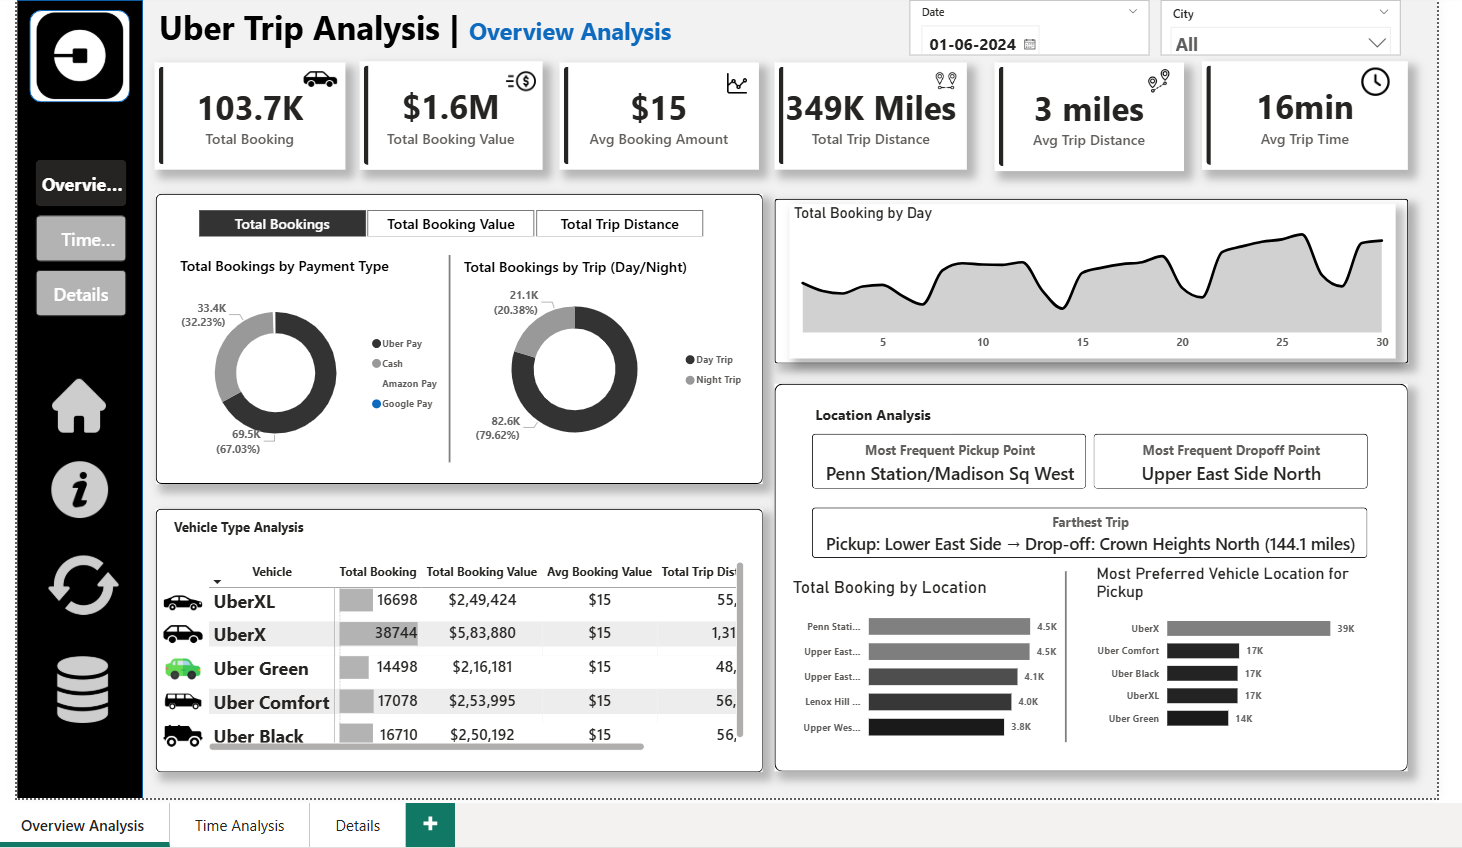

What the dashboard file says about the page in this screenshot:
{"tool":"powerbi","page":{"name":"Overview Analysis","canvas":[1600,900],"ordinal":0},"visuals":[{"type":"shape","box":[0,0,142,900.5],"z":0},{"type":"textbox","box":[154.3,0,868.6,68.6],"z":1000},{"type":"cardVisual","fields":{"Data":["Trip Details.Total Booking Value"]},"box":[385.8,69.7,206.4,122.3],"z":2000},{"type":"cardVisual","fields":{"Data":["Trip Details.Avg Booking Amount"]},"box":[611.4,70.3,224.7,120.8],"z":3000},{"type":"cardVisual","fields":{"Data":["Trip Details.Total Trip Distance"]},"box":[854.5,70.3,217.1,120.8],"z":4000},{"type":"cardVisual","fields":{"Data":["Trip Details.Avg Trip Distance"]},"box":[1102.1,70.3,214,122.3],"z":5000},{"type":"cardVisual","fields":{"Data":["Trip Details.Avg Trip Time"]},"box":[1335.9,68.8,232.3,122.3],"z":6000},{"type":"cardVisual","fields":{"Data":["Trip Details.Total Bookings"]},"box":[154.4,70.3,215.5,120.8],"z":7000},{"type":"image","box":[1510.2,76.4,41.3,32.1],"z":8000},{"type":"image","box":[1275.7,74.3,25.7,32.9],"z":9000},{"type":"image","box":[1035.7,74.3,22.9,32.9],"z":10000},{"type":"image","box":[489.1,74.9,159,33.6],"z":11000},{"type":"image","box":[798.6,77.1,25.7,32.9],"z":12000},{"type":"shape","box":[155.7,218.6,684.3,327.1],"z":13000},{"type":"image","box":[247.6,68.8,188,39.7],"z":14000},{"type":"slicer","fields":{"Values":["Dynamic Measure.Dynamic Measure"]},"box":[178.6,230,618.6,37.1],"z":15000},{"type":"donutChart","fields":{"Y":["Trip Details.Total Booking"],"Category":["Trip Details.Payment_type"]},"box":[178.6,287.1,308.6,244.3],"z":16000},{"type":"shape","box":[155.7,572.9,684.3,297.1],"z":17000},{"type":"donutChart","fields":{"Y":["Trip Details.Total Booking"],"Category":["Trip Details.Trip Type (DAY/NIGHT)"]},"box":[498.3,288.9,331.7,233.9],"z":18000},{"type":"pivotTable","fields":{"Rows":["Trip Details.Vehicle"],"Values":["Trip Details.Total Bookings","Trip Details.Total Booking Value","Trip Details.Avg Booking Amount","Trip Details.Total Trip Distance Measure"]},"box":[211.4,628.6,612.9,222.9],"z":19000},{"type":"image","box":[155.9,655.7,61.1,48.9],"z":20000},{"type":"image","box":[145.2,692.4,84.1,45.9],"z":21000},{"type":"image","box":[145.2,733.7,84.1,39.7],"z":22000},{"type":"image","box":[145.2,767.3,84.1,45.9],"z":23000},{"type":"image","box":[145.2,807.1,84.1,44.3],"z":24000},{"type":"textbox","box":[171.2,573.2,428,47.4],"z":25000},{"type":"shape","box":[854.5,432.6,713.8,437.2],"z":26000},{"type":"shape","box":[854.3,224.3,714.3,185.7],"z":27000},{"type":"areaChart","fields":{"Category":["Calendar Table.Date.Variation.Date Hierarchy.Day"],"Y":["Trip Details.Total Bookings"]},"box":[870,230,682.9,174.3],"z":28000},{"type":"cardVisual","fields":{"Data":["Trip Details.Most Frequent Pickup Point","Trip Details.Most Frequent Dropoff Point"]},"box":[878.9,472.3,660.3,96.3],"z":29000},{"type":"cardVisual","fields":{"Data":["Trip Details.Farthest Trip"]},"box":[878.9,554.9,660.3,91.7],"z":30000},{"type":"barChart","fields":{"Category":["Location Table.Location"],"Y":["Trip Details.Total Booking"]},"box":[869.7,651.2,311.8,195.7],"z":31000},{"type":"barChart","title":"Most Preferred Vehicle Location for Pickup","fields":{"Y":["CountNonNull(Trip Details.PULocationID)"],"Category":["Trip Details.Vehicle"]},"box":[1212.1,635.9,310.3,198.7],"z":32000},{"type":"shape","box":[432.6,287.4,110.1,233.9],"z":33000},{"type":"shape","box":[1126.5,643.5,110.1,192.6],"z":34000},{"type":"textbox","box":[894.2,446.3,159,41.3],"z":35000},{"type":"slicer","fields":{"Values":["Calendar Table.Date"]},"box":[1005.8,0,270.3,62.5],"z":36000},{"type":"slicer","fields":{"Values":["Location Table.City"]},"box":[1289.2,0,270.3,62.5],"z":37000},{"type":"shape","box":[13.8,10.7,113.1,103.9],"z":38000},{"type":"image","box":[13.8,13.8,113.1,97.8],"z":39000},{"type":"pageNavigator","box":[21.4,180.4,102.4,177.3],"z":40000},{"type":"image","box":[15.3,426.5,108.5,61.1],"z":41000},{"type":"image","box":[15.3,519.7,110.1,64.2],"z":42000},{"type":"image","box":[33.6,620.6,82.5,79.5],"z":43000},{"type":"image","box":[3.1,739.8,142.2,74.9],"z":44000}]}

Visuals, with their boxes on the page's 1600x900 design canvas (x1, y1, x2, y2). These are canvas units, not pixel positions in the 1462x848 screenshot, which may show the page scaled, cropped or inside an application window:
shape: region(0, 0, 142, 900)
textbox: region(154, 0, 1023, 69)
cardVisual - Trip Details.Total Booking Value: region(386, 70, 592, 192)
cardVisual - Trip Details.Avg Booking Amount: region(611, 70, 836, 191)
cardVisual - Trip Details.Total Trip Distance: region(854, 70, 1072, 191)
cardVisual - Trip Details.Avg Trip Distance: region(1102, 70, 1316, 193)
cardVisual - Trip Details.Avg Trip Time: region(1336, 69, 1568, 191)
cardVisual - Trip Details.Total Bookings: region(154, 70, 370, 191)
image: region(1510, 76, 1552, 108)
image: region(1276, 74, 1301, 107)
image: region(1036, 74, 1059, 107)
image: region(489, 75, 648, 108)
image: region(799, 77, 824, 110)
shape: region(156, 219, 840, 546)
image: region(248, 69, 436, 108)
slicer - Dynamic Measure.Dynamic Measure: region(179, 230, 797, 267)
donutChart - Trip Details.Total Booking x Trip Details.Payment_type: region(179, 287, 487, 531)
shape: region(156, 573, 840, 870)
donutChart - Trip Details.Total Booking x Trip Details.Trip Type (DAY/NIGHT): region(498, 289, 830, 523)
pivotTable - Trip Details.Vehicle x Trip Details.Total Bookings: region(211, 629, 824, 852)
image: region(156, 656, 217, 705)
image: region(145, 692, 229, 738)
image: region(145, 734, 229, 773)
image: region(145, 767, 229, 813)
image: region(145, 807, 229, 851)
textbox: region(171, 573, 599, 621)
shape: region(854, 433, 1568, 870)
shape: region(854, 224, 1569, 410)
areaChart - Calendar Table.Date.Variation.Date Hierarchy.Day x Trip Details.Total Bookings: region(870, 230, 1553, 404)
cardVisual - Trip Details.Most Frequent Pickup Point x Trip Details.Most Frequent Dropoff Point: region(879, 472, 1539, 569)
cardVisual - Trip Details.Farthest Trip: region(879, 555, 1539, 647)
barChart - Location Table.Location x Trip Details.Total Booking: region(870, 651, 1182, 847)
"Most Preferred Vehicle Location for Pickup" barChart: region(1212, 636, 1522, 835)
shape: region(433, 287, 543, 521)
shape: region(1126, 644, 1237, 836)
textbox: region(894, 446, 1053, 488)
slicer - Calendar Table.Date: region(1006, 0, 1276, 62)
slicer - Location Table.City: region(1289, 0, 1560, 62)
shape: region(14, 11, 127, 115)
image: region(14, 14, 127, 112)
pageNavigator: region(21, 180, 124, 358)
image: region(15, 426, 124, 488)
image: region(15, 520, 125, 584)
image: region(34, 621, 116, 700)
image: region(3, 740, 145, 815)
